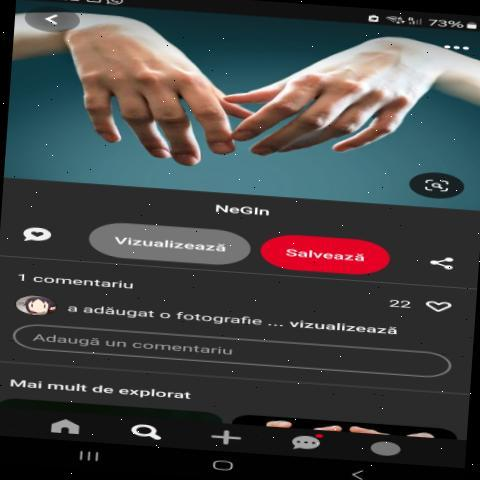Hands: (234, 6, 480, 179), (20, 11, 250, 187)
